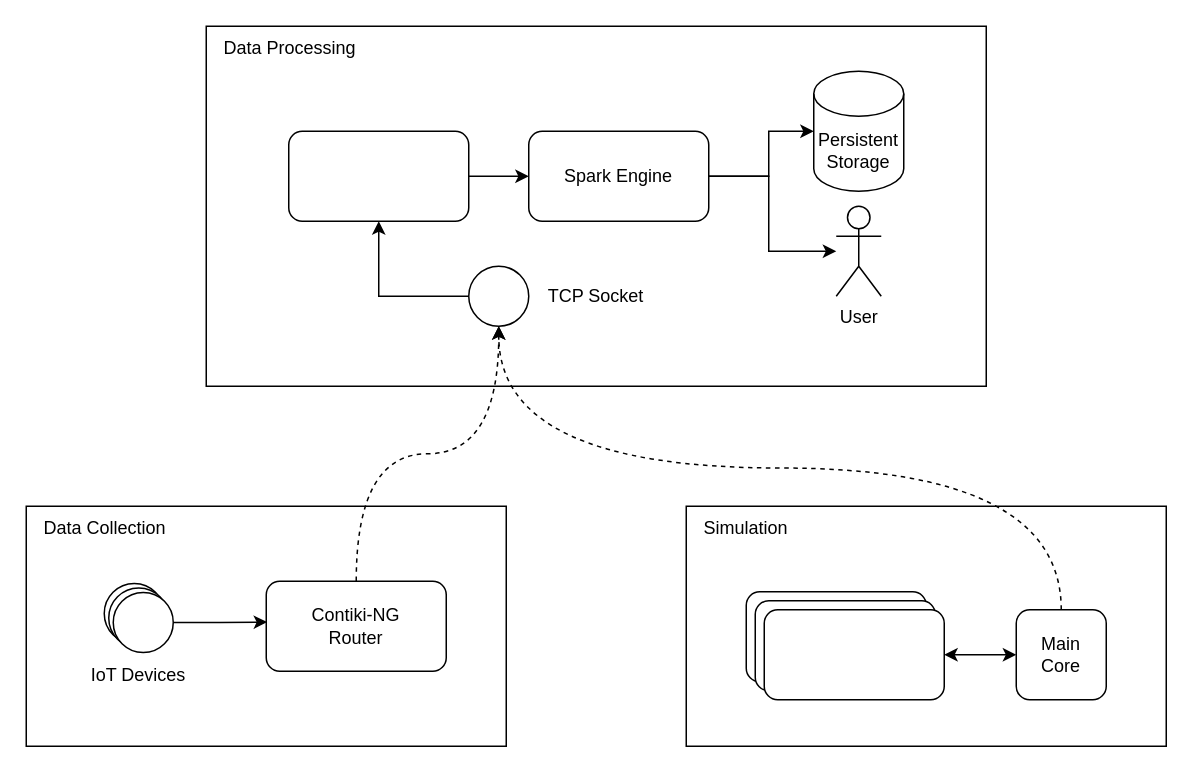
Some shapes in this 1193 by 773 pixel diagram are drawn without their labels. The shapes that lost their labels are listed below. From the top down, each one's centre as x and y in pixels, then its label:
(378,175): Spark Streaming
(853,654): MPI Cores
